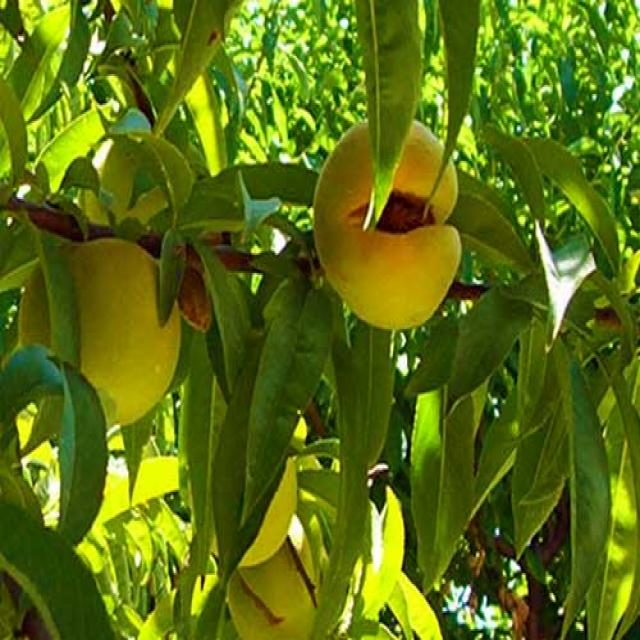Peach: (14, 42, 476, 638)
